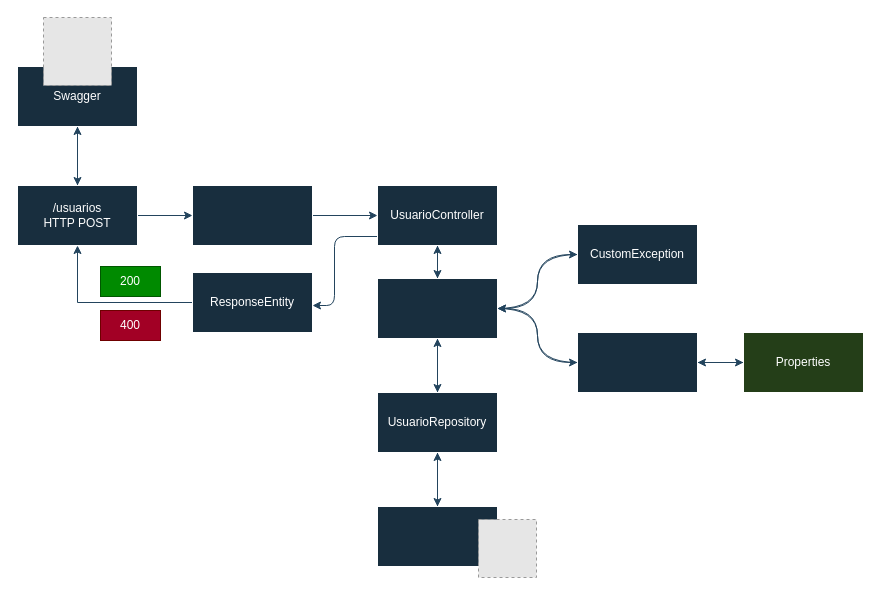
This 881x595 diagram has some shape labels left out. Grey dashed boxes stand in for pictures. Here are the shapes that lost their labels. From the top down, the centre of each, then its label:
[252,215]: Usuario
[437,308]: UsuarioService
[637,362]: EmailPolicy PasswordPolicy
[437,536]: H2 Database in Memory
